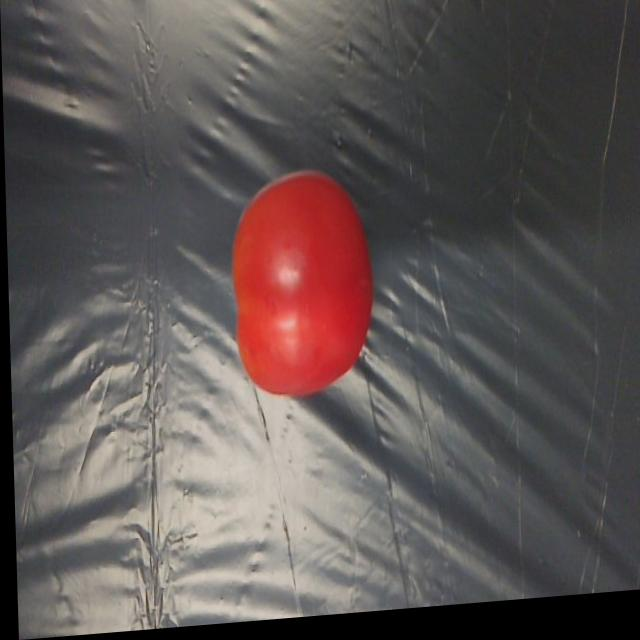kirmizi: (214, 158, 397, 436)
